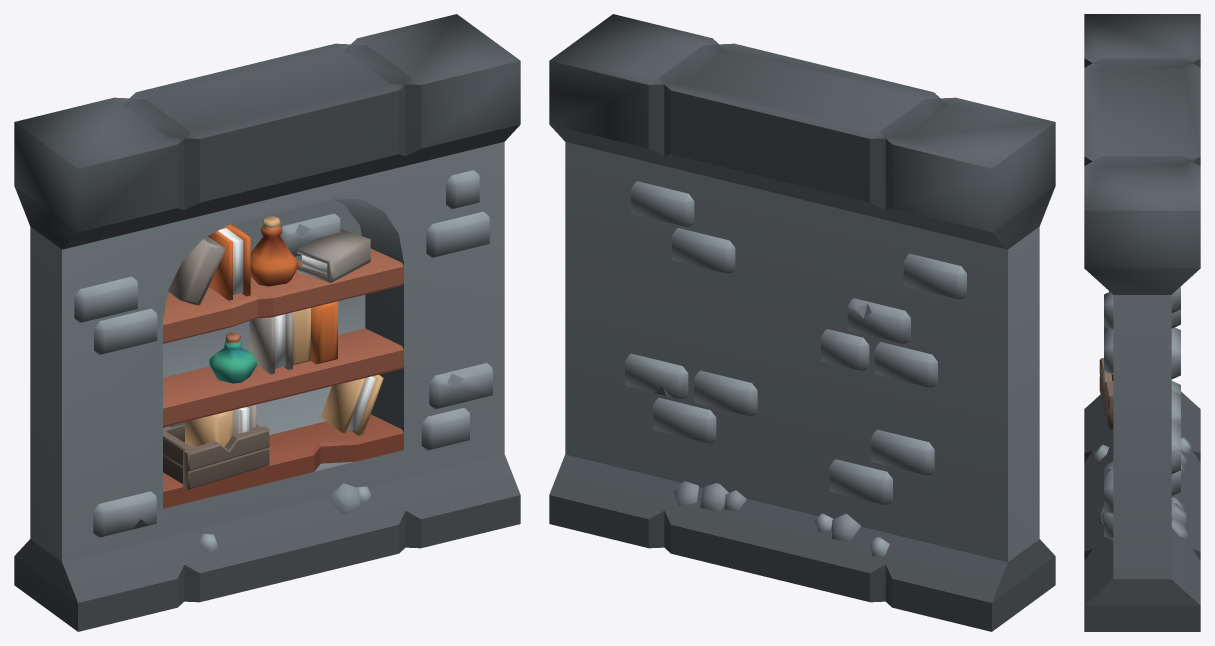
File: cellar_wall3-optimized.glb
3 views of the same model, side by side, from view 1: azimuth 30°, elevation 25°; view 2: azimuth 150°, elevation 25°; view 3: azimuth 270°, elevation 25° (orthographic). The views are drawn at different scales.
Parts seen in each view (by area): view 1: wall_inset_shelves_decoratedA; view 2: wall_inset_shelves_decoratedA; view 3: wall_inset_shelves_decoratedA.
Boxes of the visible parts, x1,y1,x2,y2 form: wall_inset_shelves_decoratedA: (14, 14, 520, 631); wall_inset_shelves_decoratedA: (549, 14, 1055, 631); wall_inset_shelves_decoratedA: (1084, 14, 1200, 631).
Size of the model in its own units: 4 by 4 by 1.
1 material, 1 textured.
